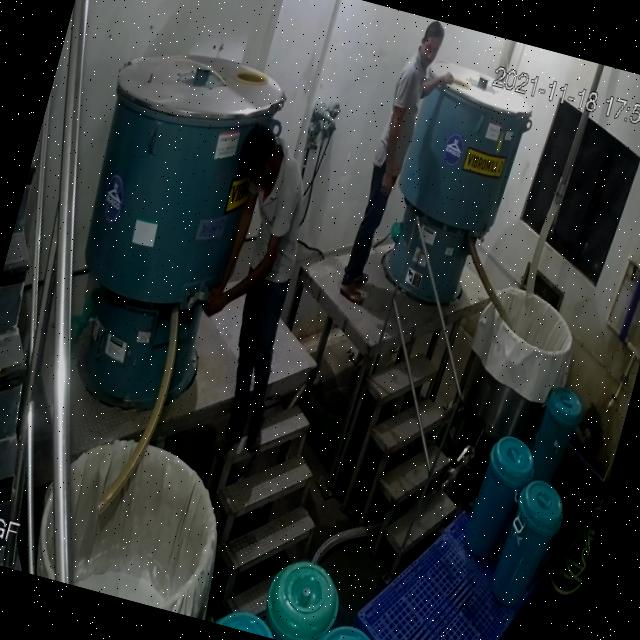boots: (238, 406, 272, 460)
no-boots: (336, 278, 367, 306)
